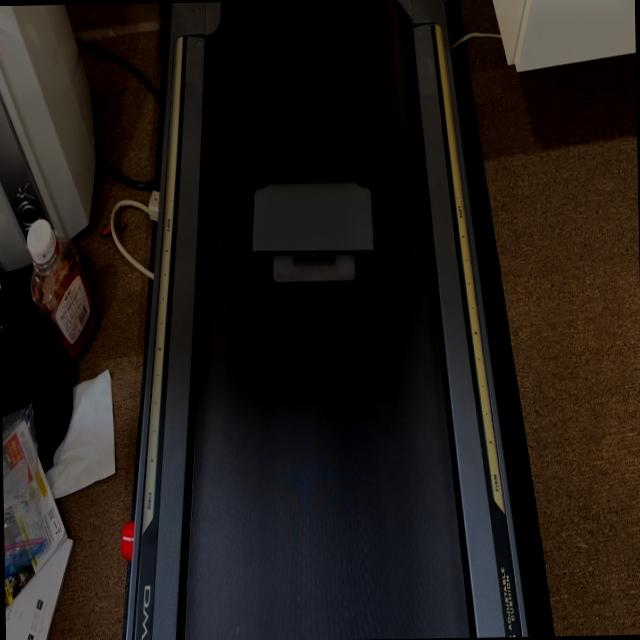Trash: (248, 172, 378, 293)
